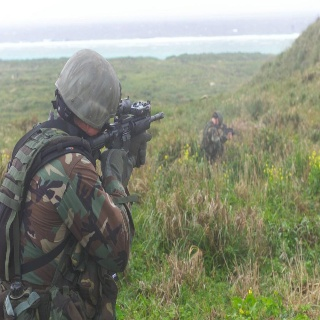rifle: (76, 94, 167, 156)
